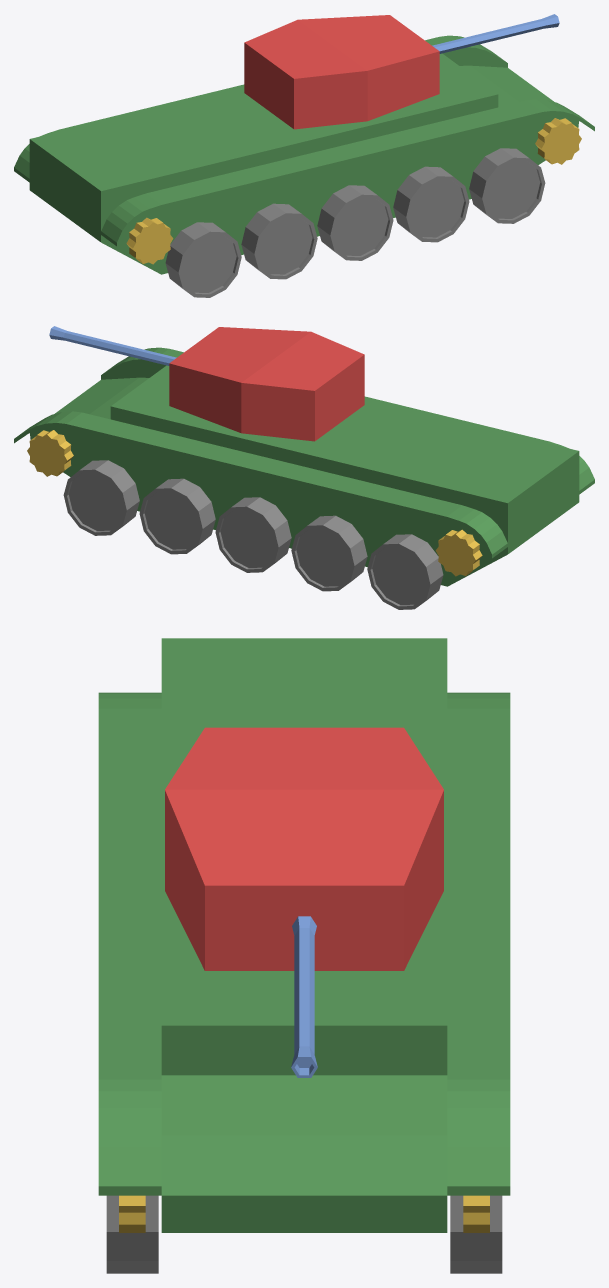
The model's file is Cromwell.glb.
3 renders of one model, top to bottom at view 1: azimuth 30°, elevation 25°; view 2: azimuth 150°, elevation 25°; view 3: azimuth 270°, elevation 25°, orthographic. The views are drawn at different scales.
Visible parts, largest first — view 1: Body, Head, Wheel R3, Wheel R1, Wheel R4, Wheel R5, Wheel R2, Driving Wheels, Gun; view 2: Body, Head, Wheel L3, Wheel L1, Wheel L4, Wheel L5, Wheel L2, Driving Wheels, Gun; view 3: Body, Head, Gun, Wheel L1, Wheel R1, Driving Wheels.
Boxes of the visible parts, x1=… form: Body: x1=14, y1=35, x2=594, y2=274; Head: x1=244, y1=15, x2=439, y2=129; Wheel R3: x1=317, y1=185, x2=393, y2=260; Wheel R1: x1=469, y1=148, x2=545, y2=223; Wheel R4: x1=241, y1=203, x2=317, y2=279; Wheel R5: x1=165, y1=222, x2=241, y2=297; Wheel R2: x1=393, y1=166, x2=469, y2=242; Driving Wheels: x1=126, y1=118, x2=581, y2=264; Gun: x1=432, y1=14, x2=559, y2=53; Body: x1=14, y1=347, x2=594, y2=586; Head: x1=169, y1=327, x2=364, y2=441; Wheel L3: x1=215, y1=497, x2=291, y2=572; Wheel L1: x1=63, y1=460, x2=139, y2=535; Wheel L4: x1=291, y1=515, x2=367, y2=591; Wheel L5: x1=367, y1=534, x2=443, y2=609; Wheel L2: x1=139, y1=478, x2=215, y2=554; Driving Wheels: x1=27, y1=430, x2=482, y2=576; Gun: x1=49, y1=326, x2=176, y2=365; Body: x1=98, y1=638, x2=510, y2=1232; Head: x1=165, y1=727, x2=443, y2=970; Gun: x1=291, y1=916, x2=317, y2=1077; Wheel L1: x1=450, y1=1195, x2=502, y2=1273; Wheel R1: x1=106, y1=1195, x2=158, y2=1273; Driving Wheels: x1=119, y1=1195, x2=489, y2=1232.
Bounding box in the file's own units: 7.94 × 2.7 × 2.88.
